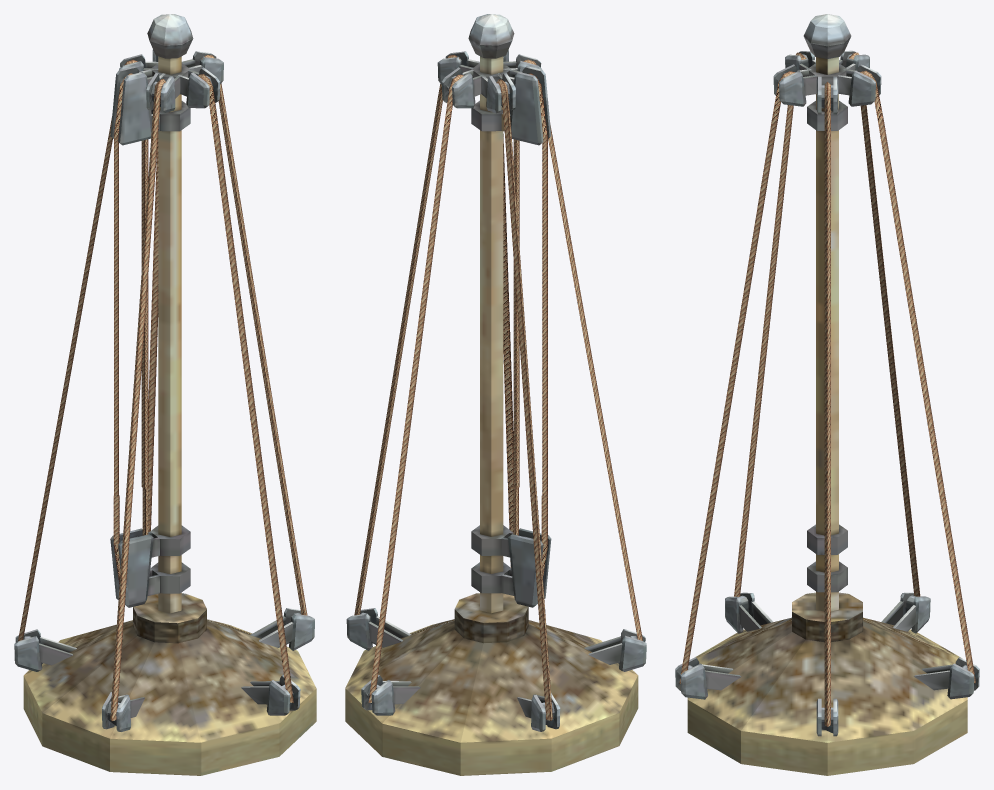
The model's file is C3FLAGPOLE.obj.
3 renders of one model, left to right at view 1: azimuth 30°, elevation 25°; view 2: azimuth 150°, elevation 25°; view 3: azimuth 270°, elevation 25°, orthographic.
Visible parts, largest first — view 1: Node 0, Node 2; view 2: Node 0, Node 2; view 3: Node 0.
Boxes of the visible parts, x1=… form: Node 0: x1=14, y1=14, x2=316, y2=775; Node 2: x1=114, y1=73, x2=148, y2=495; Node 0: x1=345, y1=14, x2=646, y2=775; Node 2: x1=513, y1=73, x2=547, y2=495; Node 0: x1=675, y1=14, x2=979, y2=775.
Bounding box in the file's own units: 5.15 × 12.87 × 5.08.
Materials: 3 (3 with a texture image).
